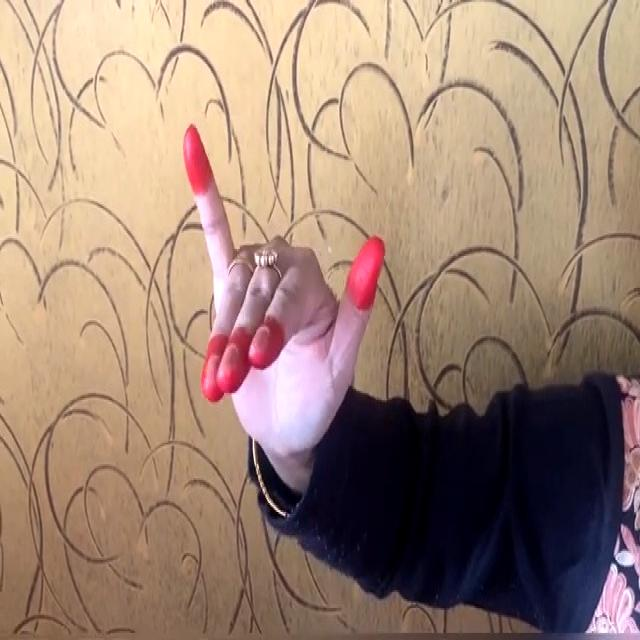Mrigashirsha: (161, 94, 405, 480)
